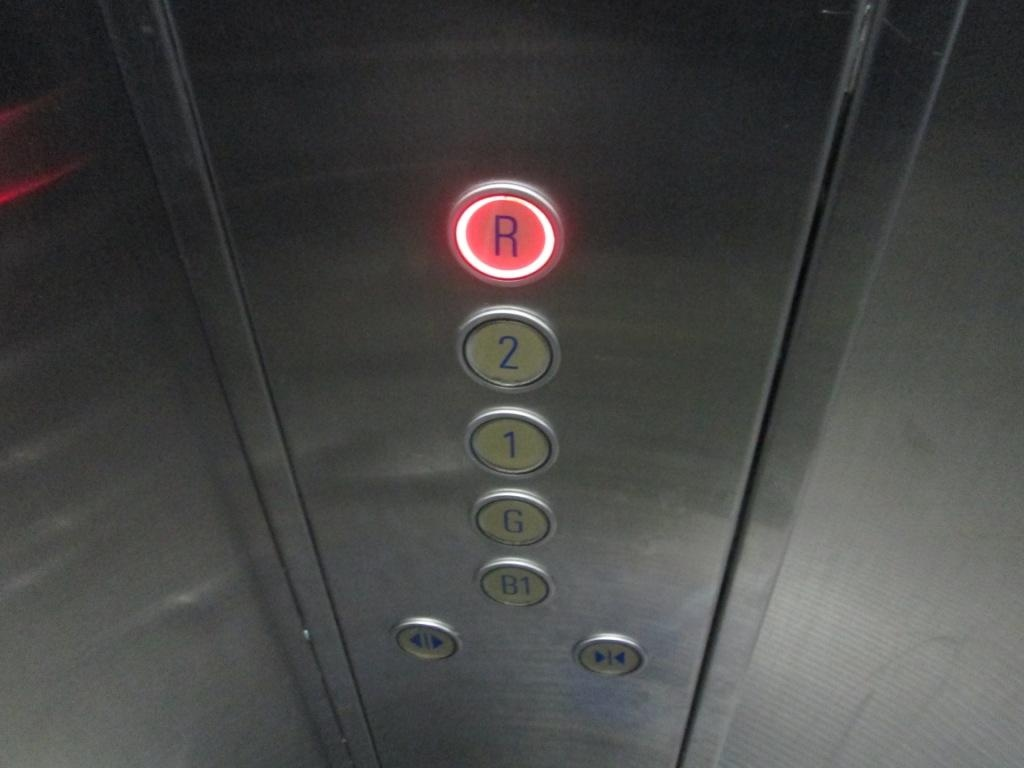1: (462, 401, 562, 485)
2: (451, 305, 561, 394)
B1: (475, 552, 558, 614)
G: (467, 485, 558, 551)
R: (445, 179, 566, 291)
close: (573, 632, 649, 682)
open: (389, 613, 462, 667)
